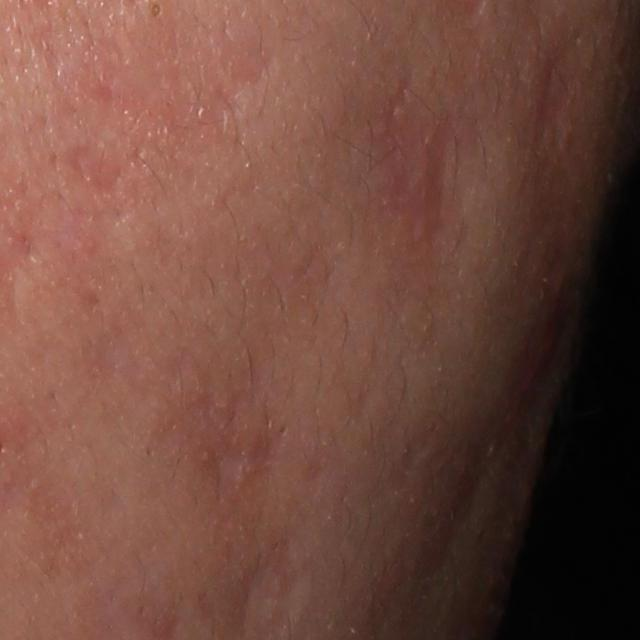atrophic_scar: (353, 71, 478, 292), (517, 20, 590, 150), (61, 141, 125, 199), (208, 428, 248, 516)
